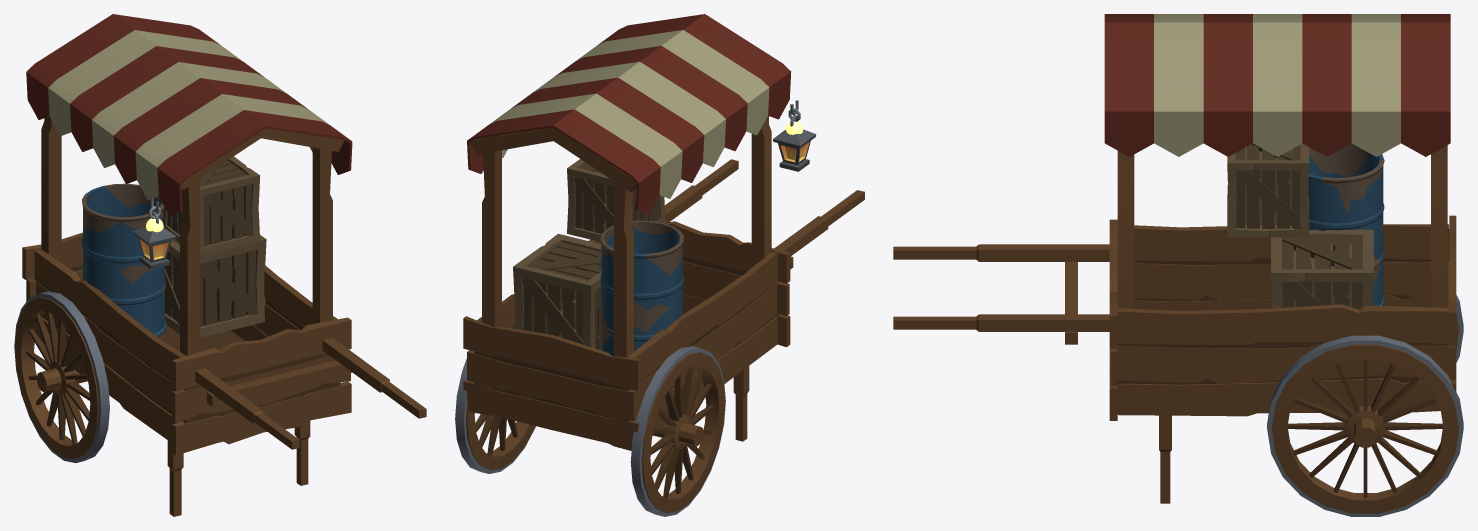
File: prop_merchant_wagon.glb
3 views of the same model, side by side, from view 1: azimuth 30°, elevation 25°; view 2: azimuth 150°, elevation 25°; view 3: azimuth 270°, elevation 25° (orthographic). The views are drawn at different scales.
Parts seen in each view (by area): view 1: prop_merchant_wagon; view 2: prop_merchant_wagon; view 3: prop_merchant_wagon.
Part boxes in pixels (x1,y1,x2,y2): prop_merchant_wagon: (14,14,426,516); prop_merchant_wagon: (455,14,864,516); prop_merchant_wagon: (893,14,1463,516).
Size of the model in its own units: 1.02 by 1.72 by 2.
10 materials, 2 textured.
